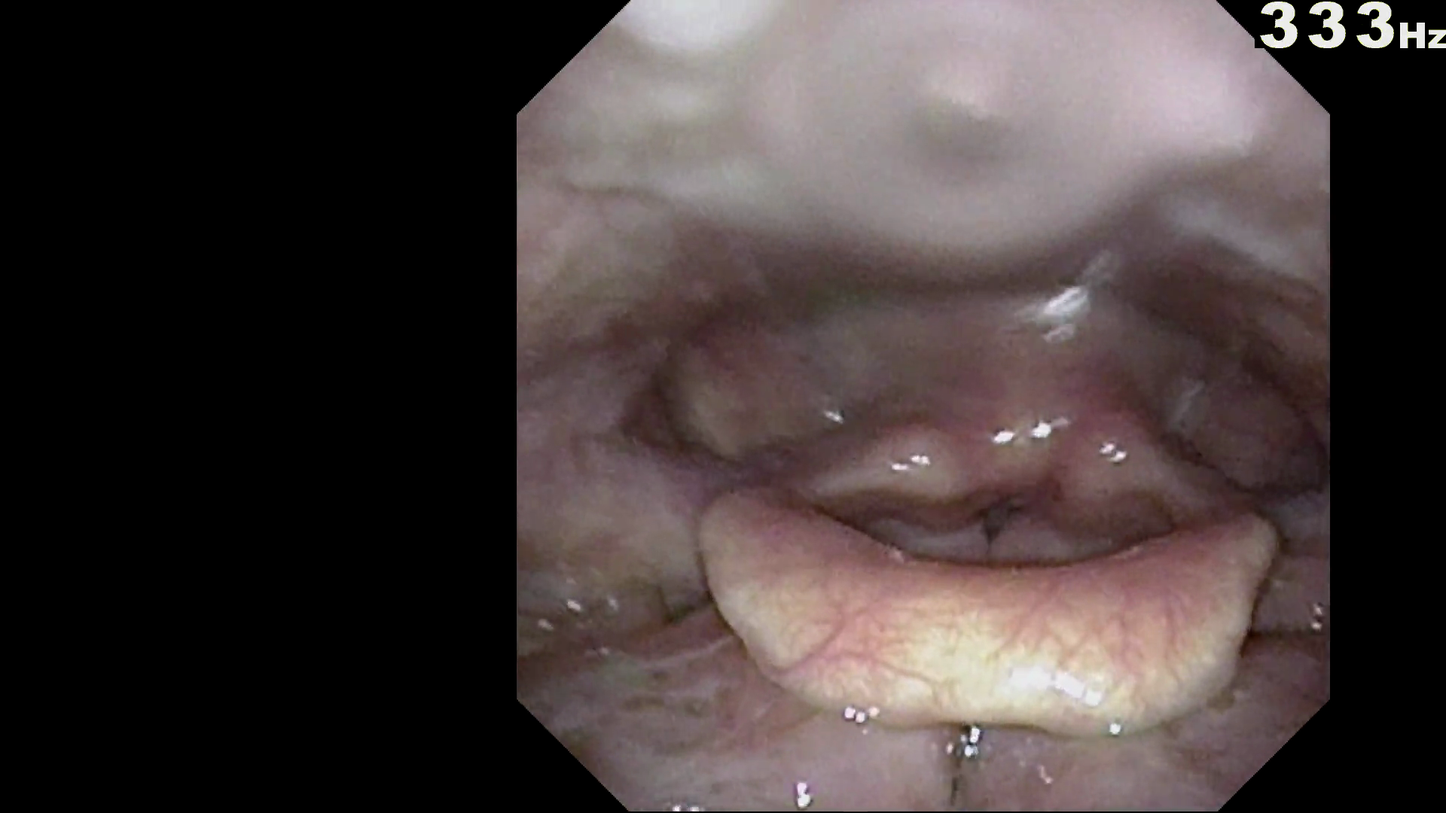epiglottis: (672, 503, 1281, 728)
trachea: (970, 487, 1033, 548)
